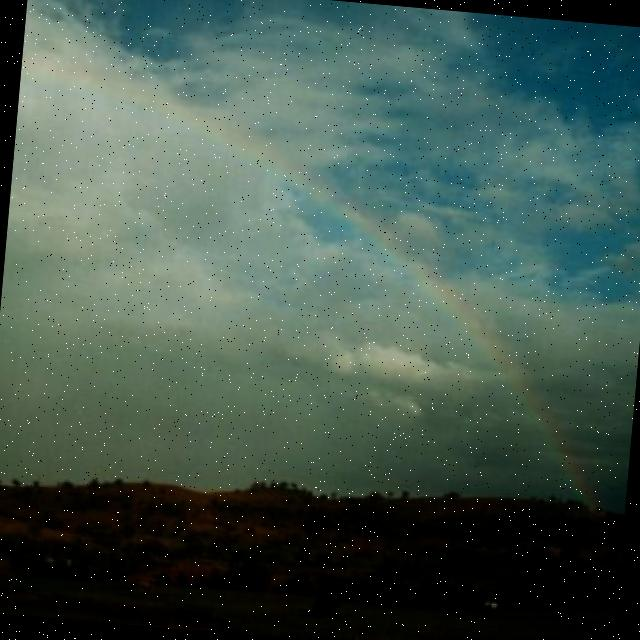Ns: (1, 31, 640, 465)
